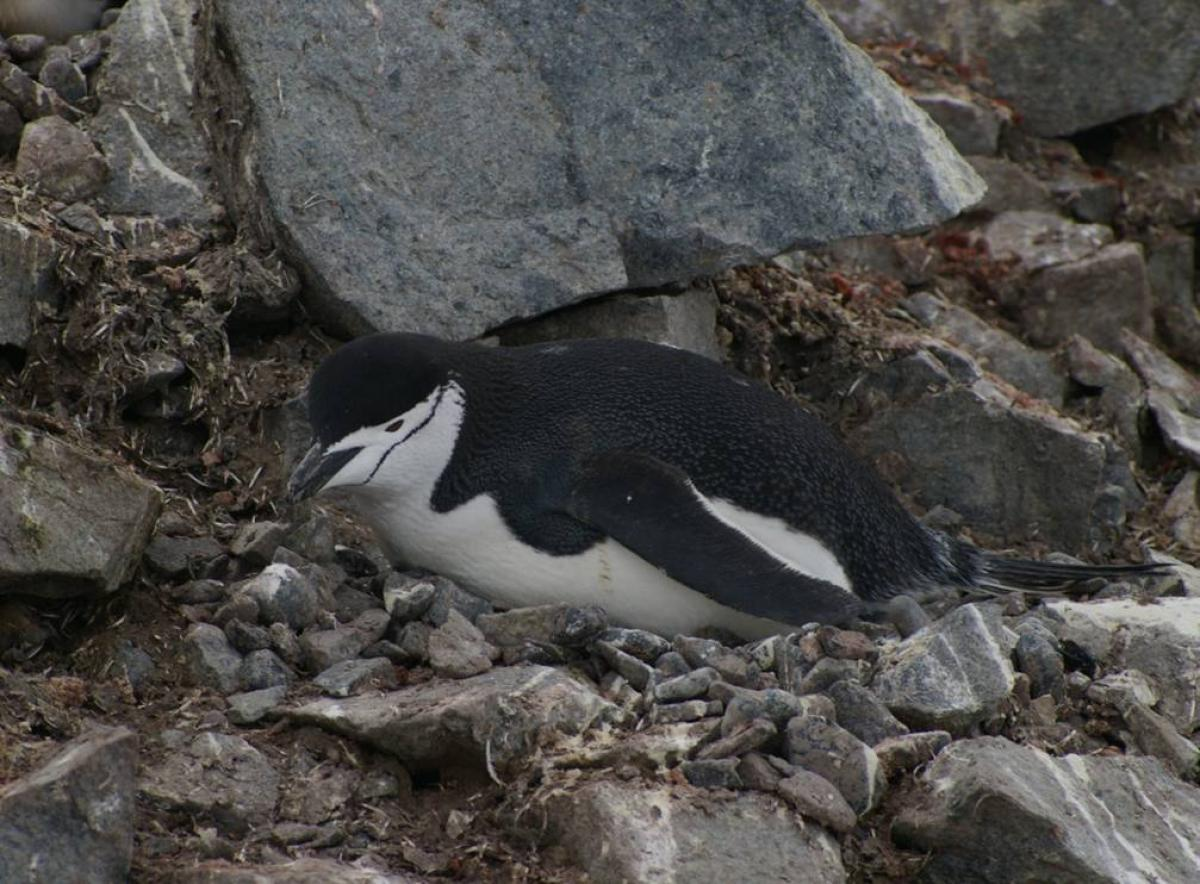chinstrap: (233, 272, 1151, 718)
